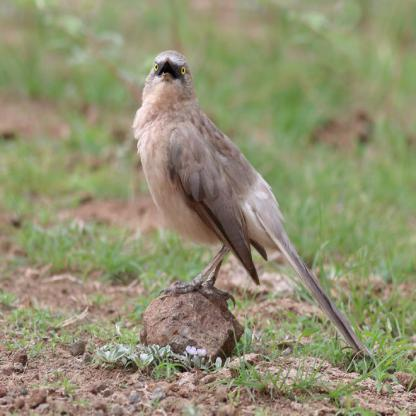Burung: (131, 49, 361, 354)
